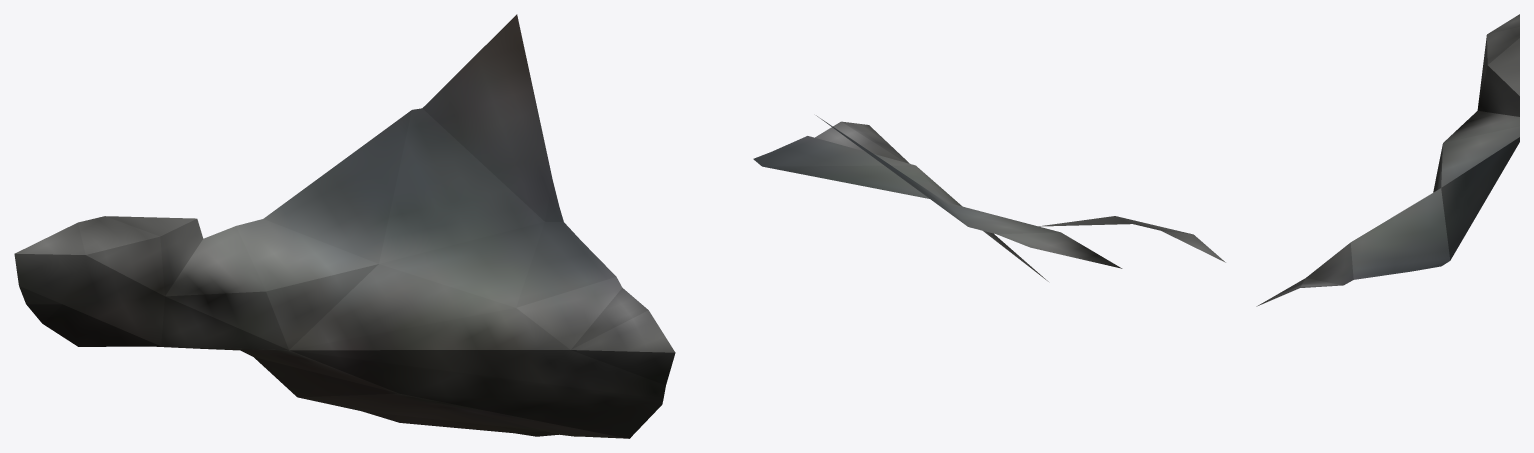
The picture shows the model from 3 angles, left to right: view 1: azimuth 30°, elevation 25°; view 2: azimuth 150°, elevation 25°; view 3: azimuth 270°, elevation 25°; orthographic projection. The views are drawn at different scales.
Bounding box in the file's own units: 0.1883 × 0.1361 × 0.1028.
Materials: 1 (1 with a texture image).
